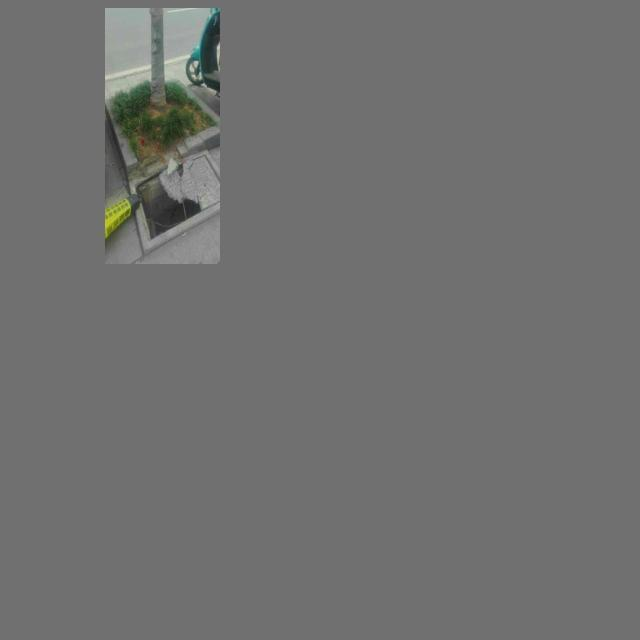broke: (135, 154, 219, 241)
